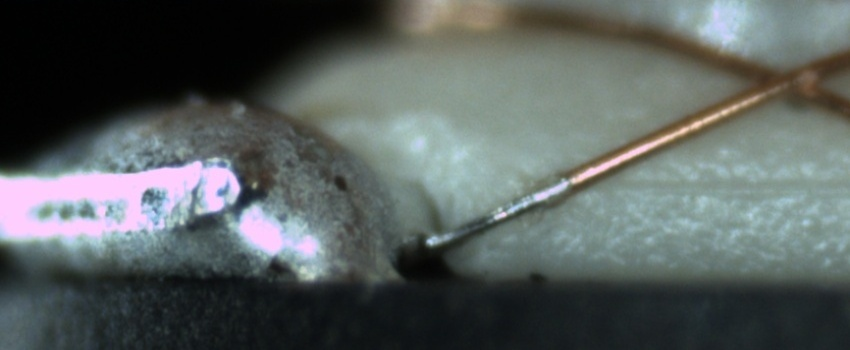CL: (717, 45, 845, 111)
DL: (576, 151, 849, 210)
TS: (421, 179, 571, 251)
TTCW: (419, 158, 616, 253)
